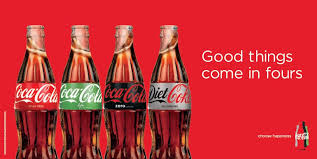coke-glass: (10, 19, 61, 159), (149, 19, 196, 159), (61, 19, 107, 159), (107, 19, 147, 159)
